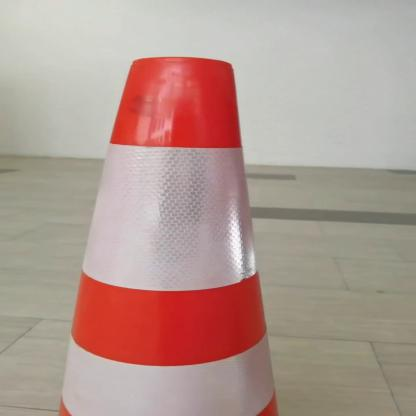cone: (54, 51, 296, 416)
